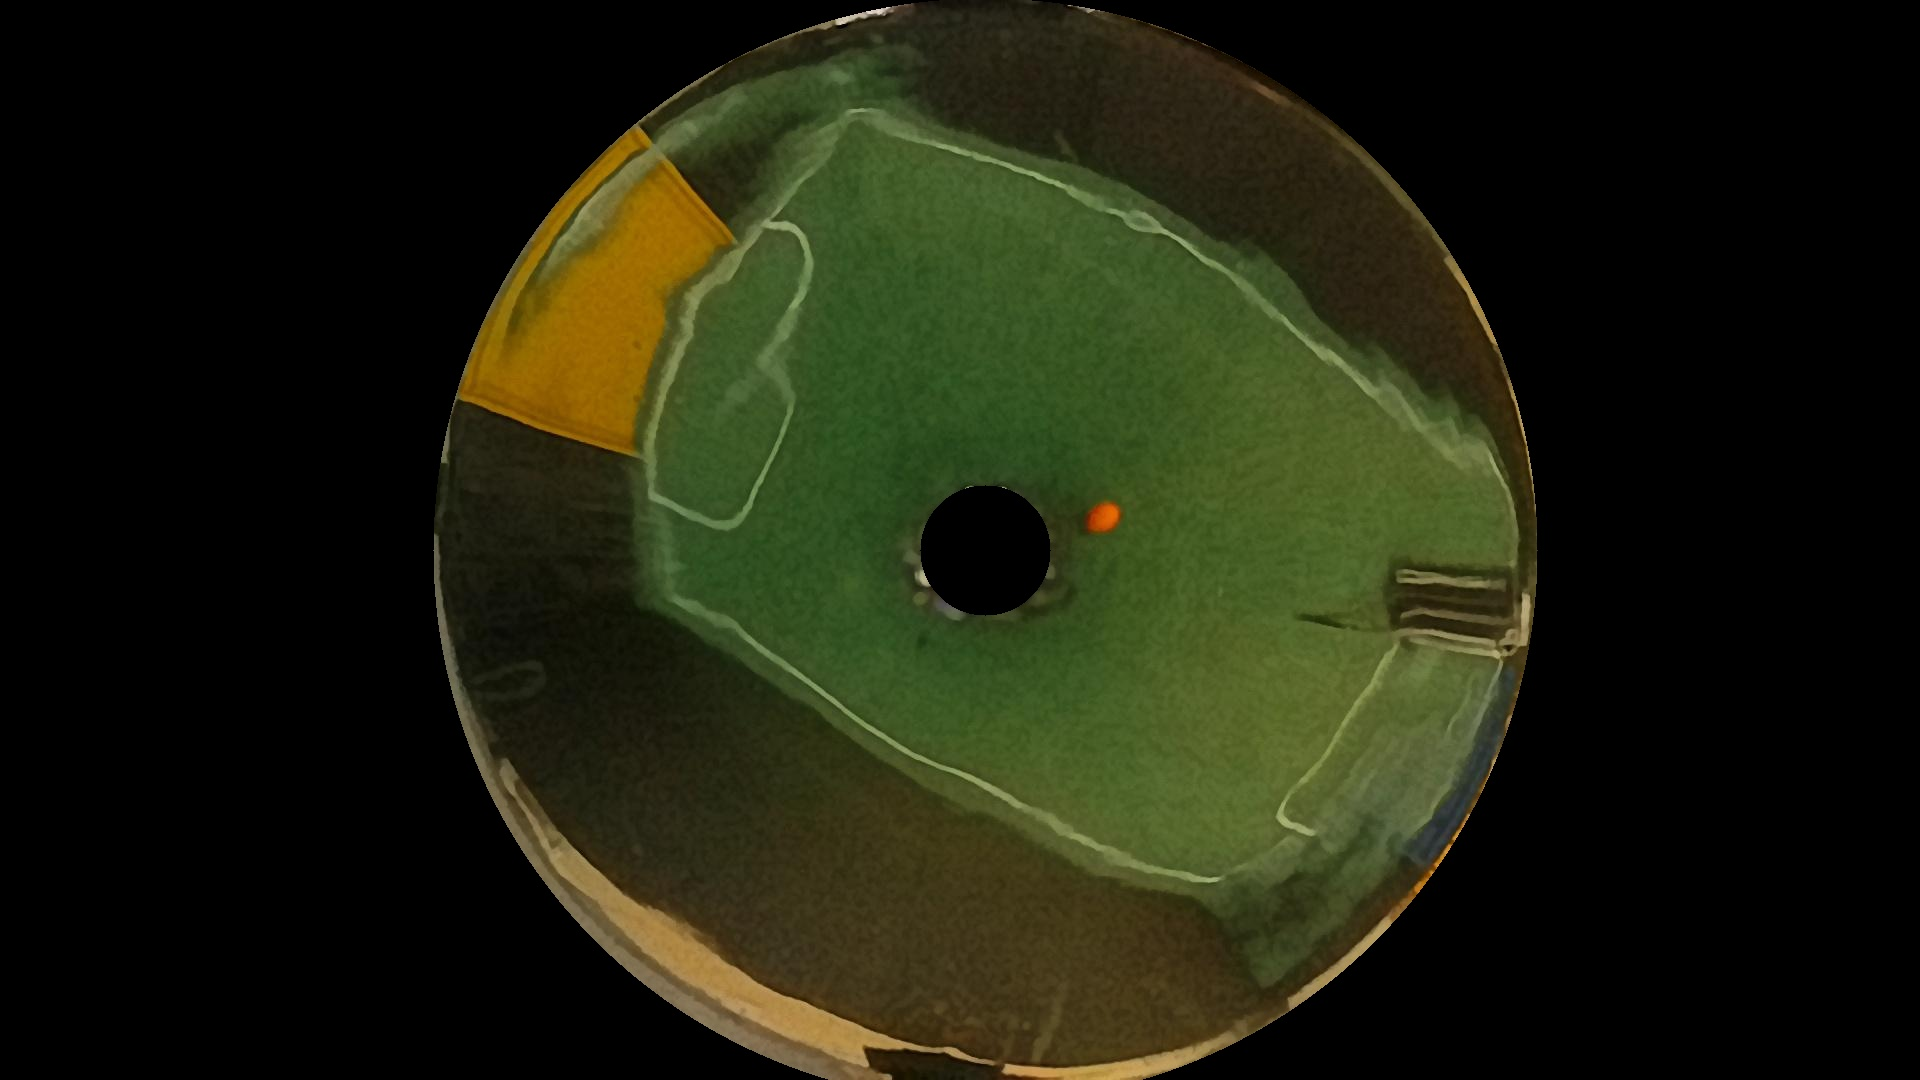ball: (1072, 496, 1142, 538)
blue-goal: (1288, 654, 1522, 891)
robots: (1364, 534, 1549, 666)
yellow-goal: (440, 98, 762, 487)
